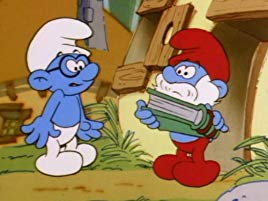smurf: (141, 26, 231, 188), (21, 16, 104, 178)
